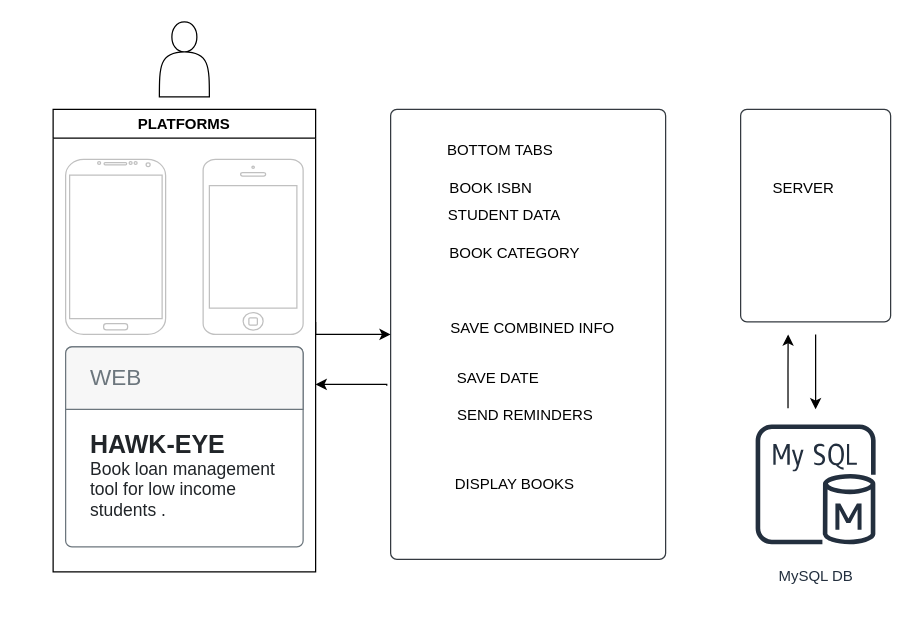
The diagram is 913 pixels wide and 626 high, and some of its shapes have lost their labels. The shapes that lost their labels are listed below. From the top down, each one's centre as x and y in pixels, then its label:
point (115, 246): ANDROID
point (252, 246): IOS
